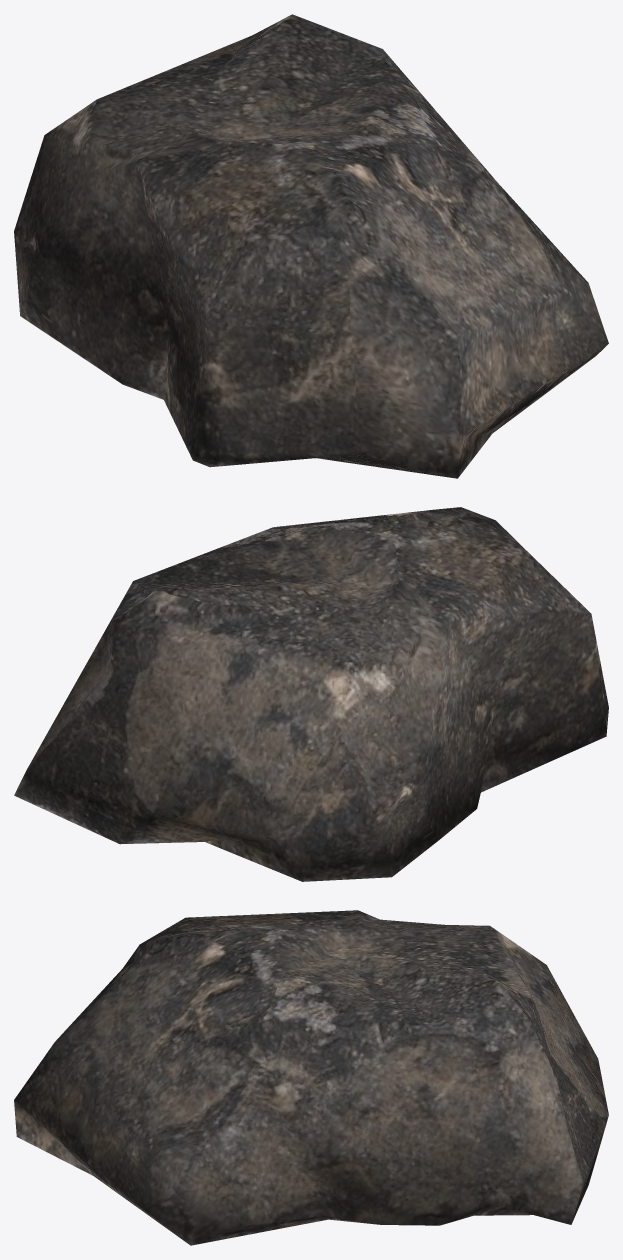
File: rock_scan05.fbx
3 views of the same model, one above another, from view 1: azimuth 30°, elevation 25°; view 2: azimuth 150°, elevation 25°; view 3: azimuth 270°, elevation 25° (orthographic). The views are drawn at different scales.
Visible parts, largest first — view 1: Rock05_LOD3; view 2: Rock05_LOD3; view 3: Rock05_LOD3.
Boxes of the visible parts, bbox=[...] form: Rock05_LOD3: bbox=[14, 14, 608, 478]; Rock05_LOD3: bbox=[14, 507, 608, 881]; Rock05_LOD3: bbox=[14, 910, 608, 1245].
Size of the model in its own units: 238 by 134 by 337.
Materials: 1 (1 with a texture image).
